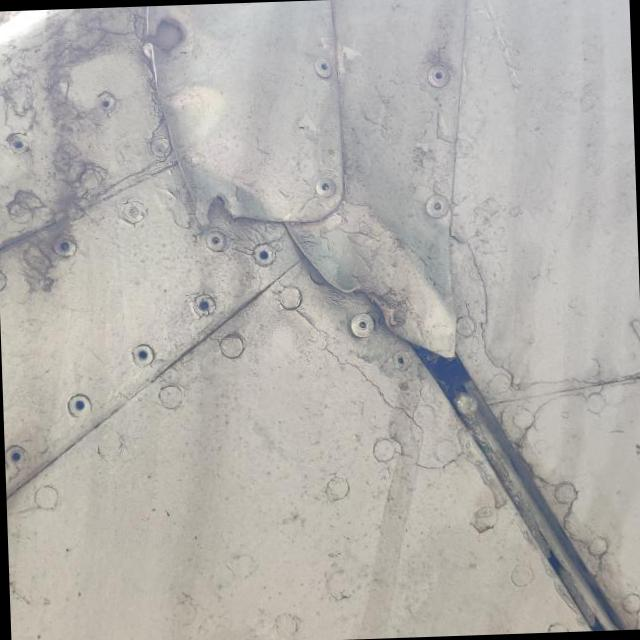Crack: (359, 288, 406, 330)
